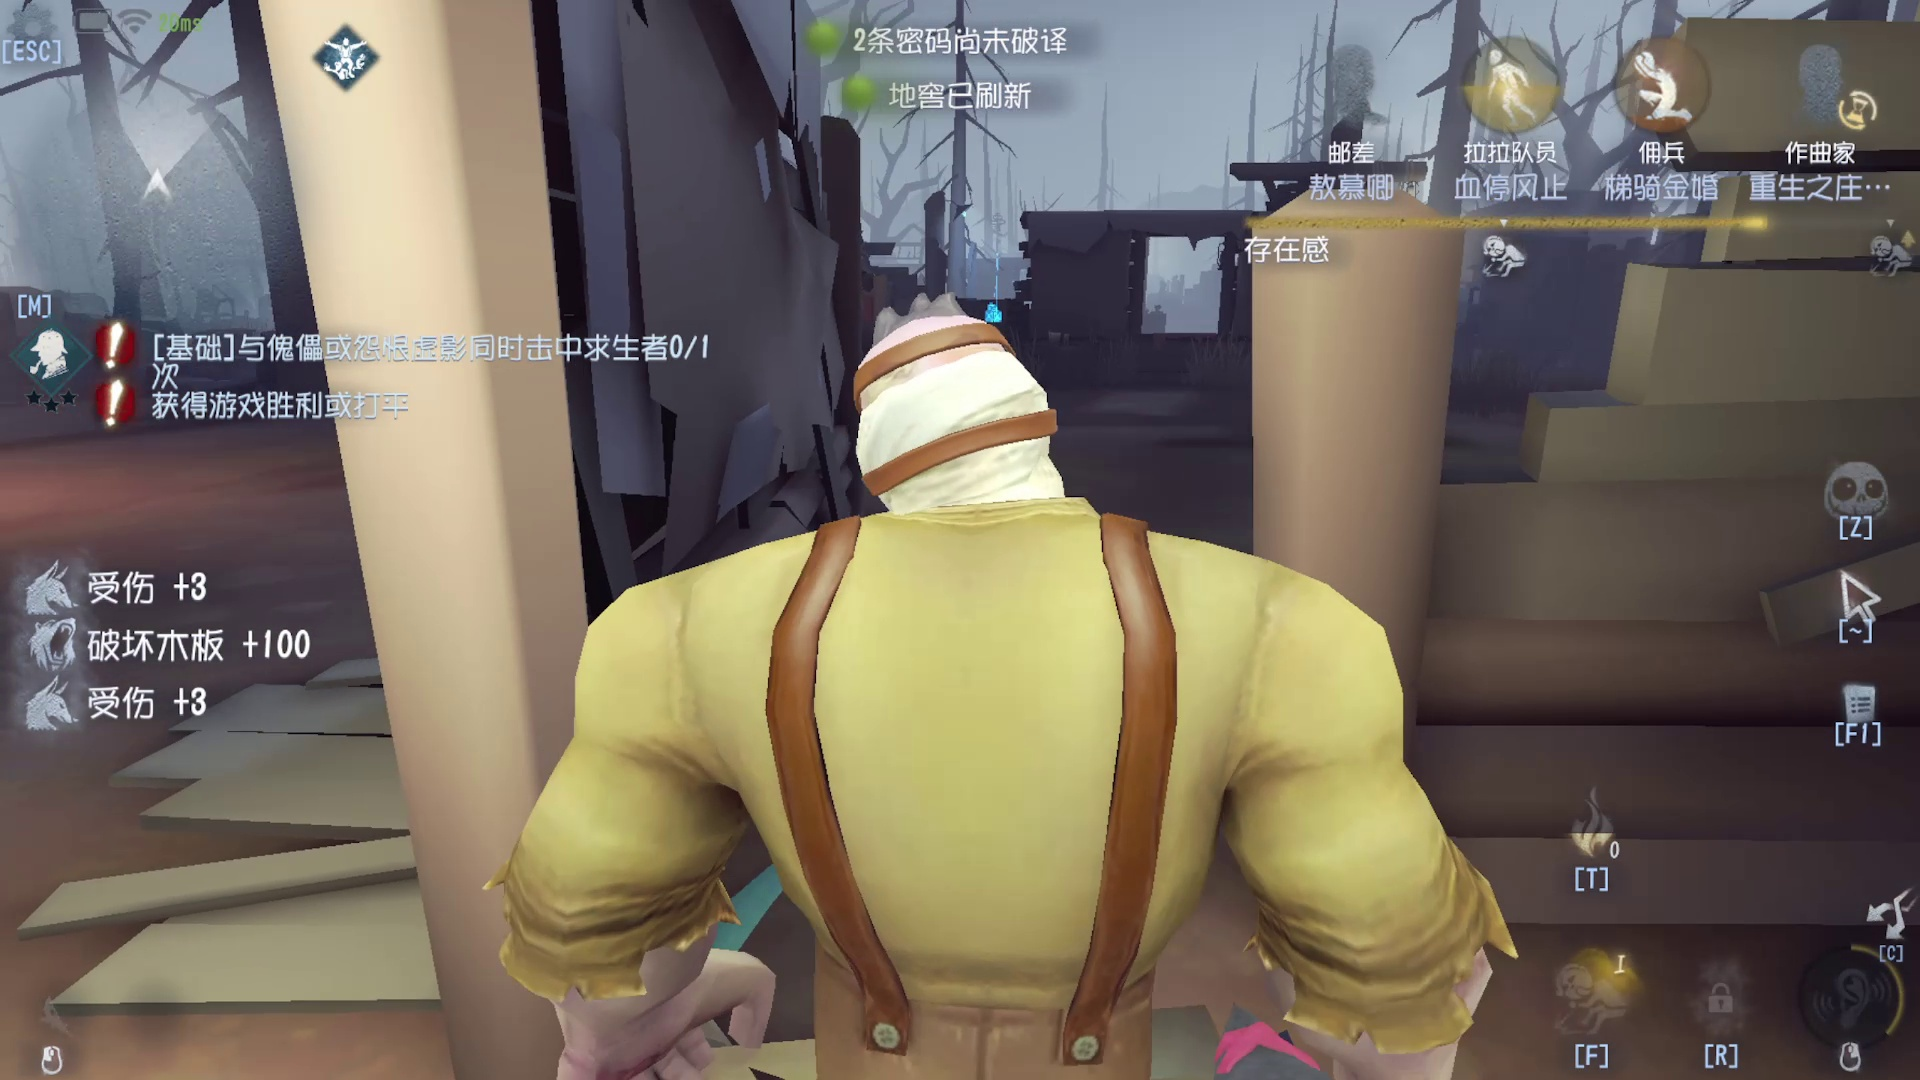密码机: (975, 202, 1025, 353)
